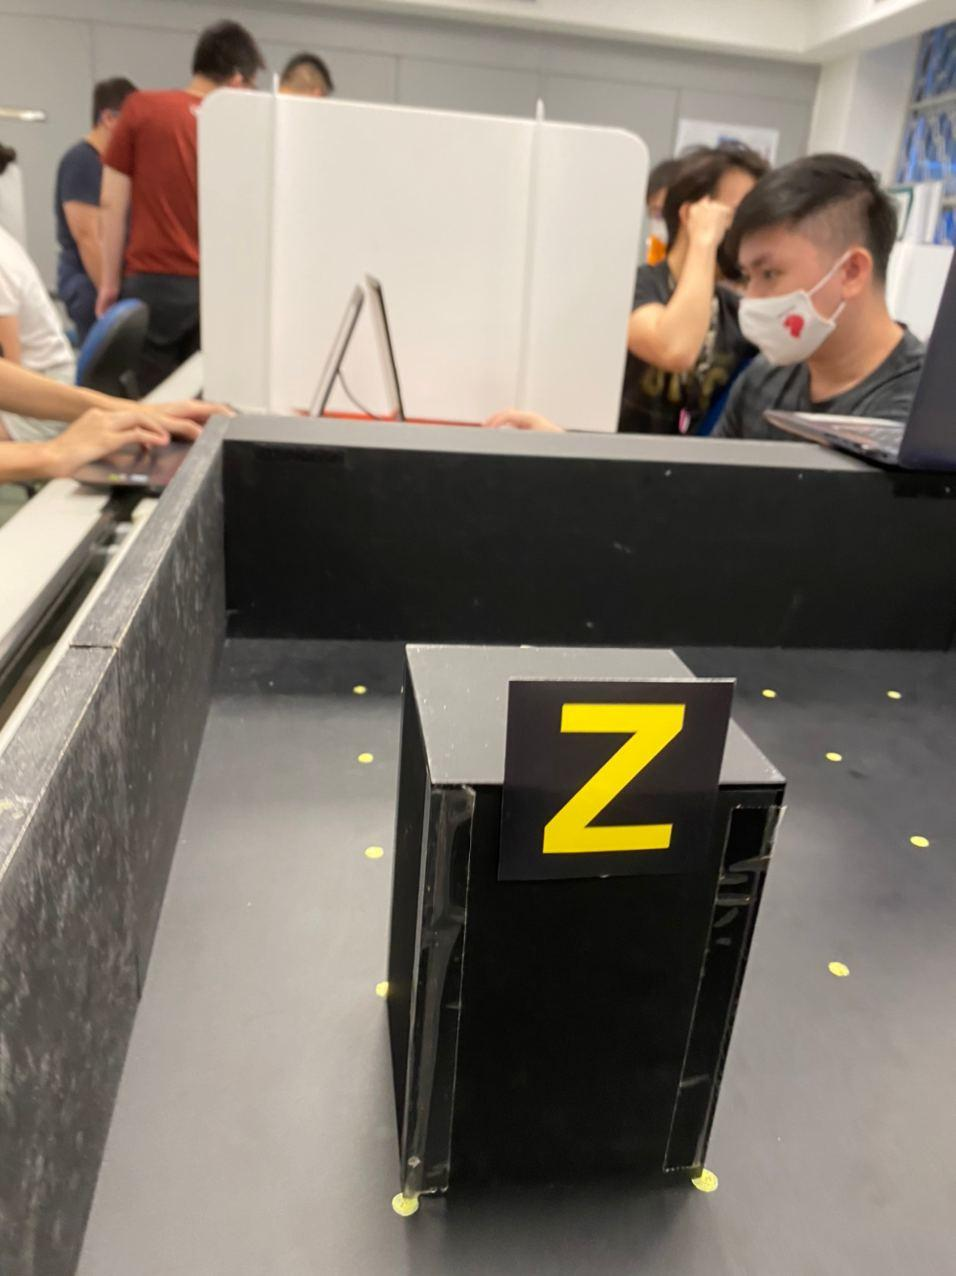z: (539, 688, 686, 866)
